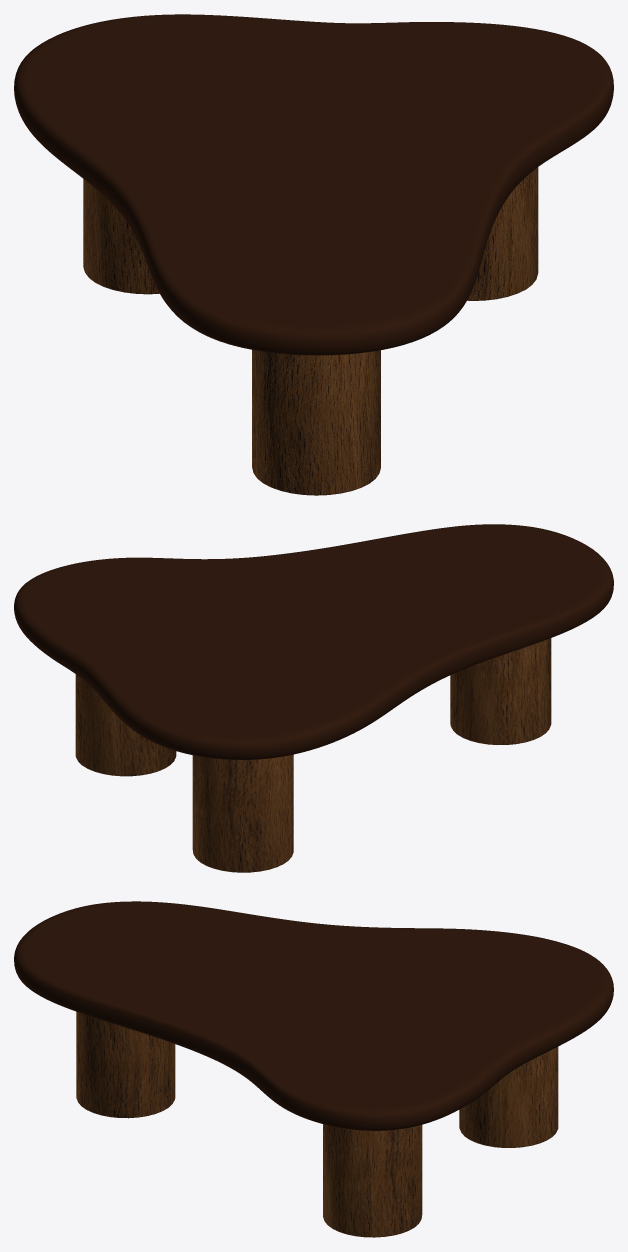
The model's file is tavolino2.fbx.
3 views of the same model, one above another, from view 1: azimuth 30°, elevation 25°; view 2: azimuth 150°, elevation 25°; view 3: azimuth 270°, elevation 25° (orthographic). The views are drawn at different scales.
Parts seen in each view (by area): view 1: Plane.012, Cylinder.010; view 2: Plane.012, Cylinder.010; view 3: Plane.012, Cylinder.010.
Part boxes in pixels (x1=…): Plane.012: x1=14, y1=14, x2=613, y2=355; Cylinder.010: x1=83, y1=167, x2=538, y2=495; Plane.012: x1=14, y1=524, x2=613, y2=759; Cylinder.010: x1=75, y1=638, x2=551, y2=872; Plane.012: x1=14, y1=901, x2=613, y2=1130; Cylinder.010: x1=76, y1=1011, x2=558, y2=1237.
Size of the model in its own units: 140 by 45.83 by 165.
